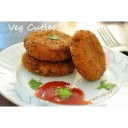cutlet: (72, 29, 108, 79), (25, 29, 71, 62), (23, 51, 74, 79)
